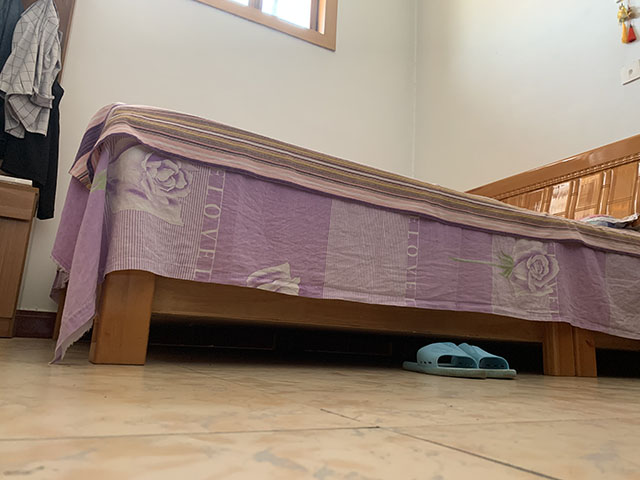bed: (45, 101, 640, 380)
slippers: (399, 342, 477, 381), (463, 343, 515, 379)
